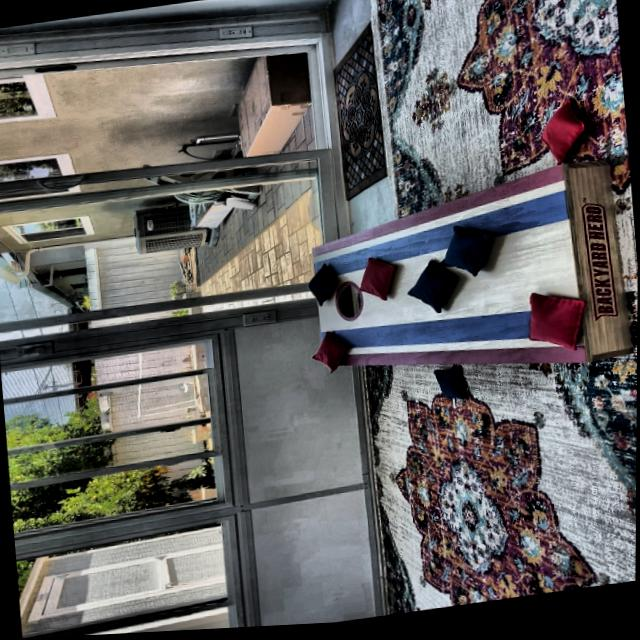blue-bean-bag: (435, 224, 495, 285), (403, 259, 459, 322), (306, 264, 336, 309), (433, 370, 466, 405)
board: (313, 207, 585, 376)
hole: (332, 283, 364, 326)
red-bean-bag: (523, 292, 590, 362), (537, 100, 587, 172), (355, 257, 399, 307), (310, 331, 348, 378)
